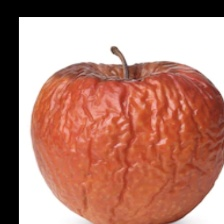apple: (33, 0, 190, 199)
